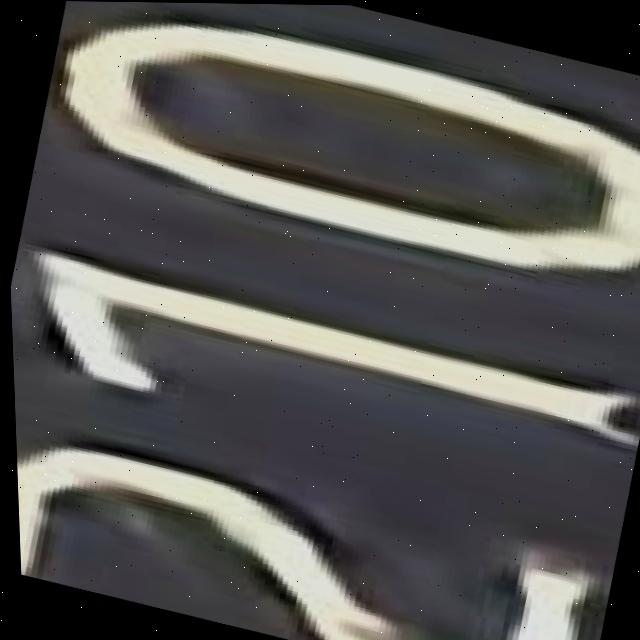character: (28, 0, 640, 313), (8, 223, 640, 515), (15, 399, 621, 640)
